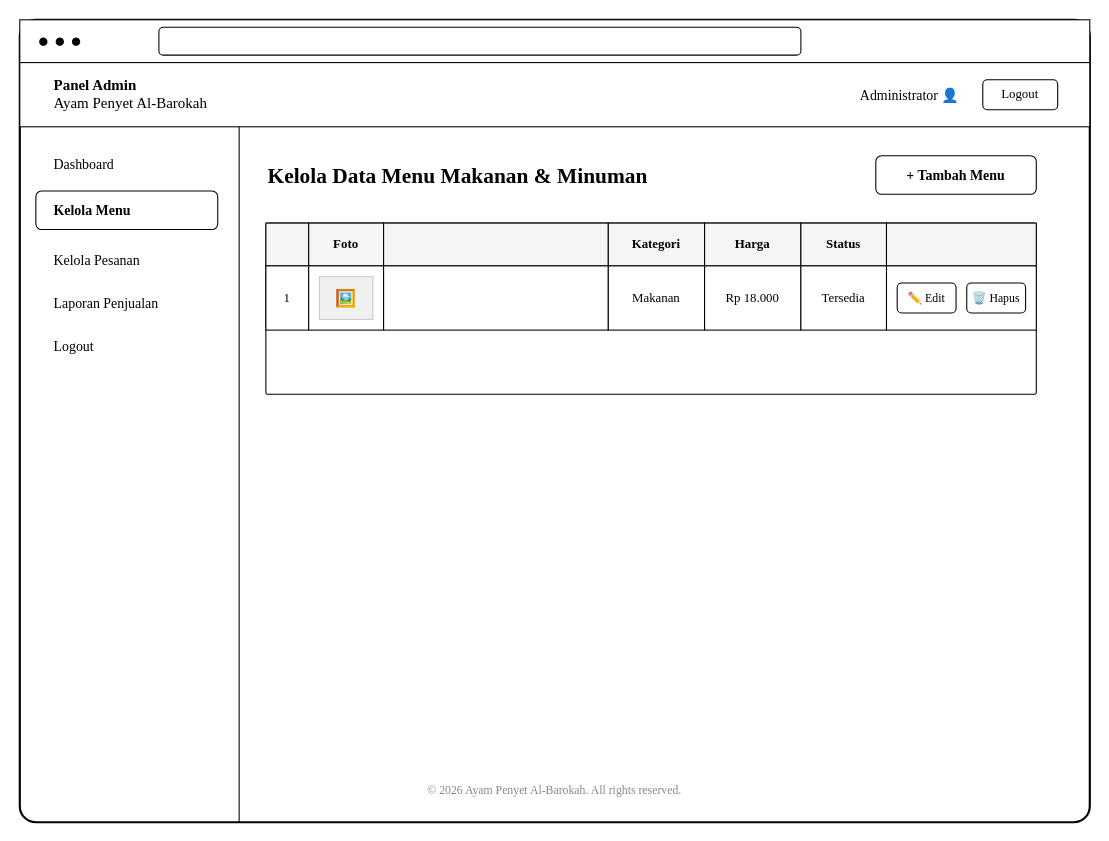
Some shapes in this 1109 by 841 pixel diagram are drawn without their labels. Each missing label, with the centre of its shape:
Aksi: (960,244)
Ayam Penyet Biasa: (495,297)
http://localhost/ayam-penyet/admin/kelola_menu.php: (479,40)
Nama Menu: (495,244)
No: (287,244)
